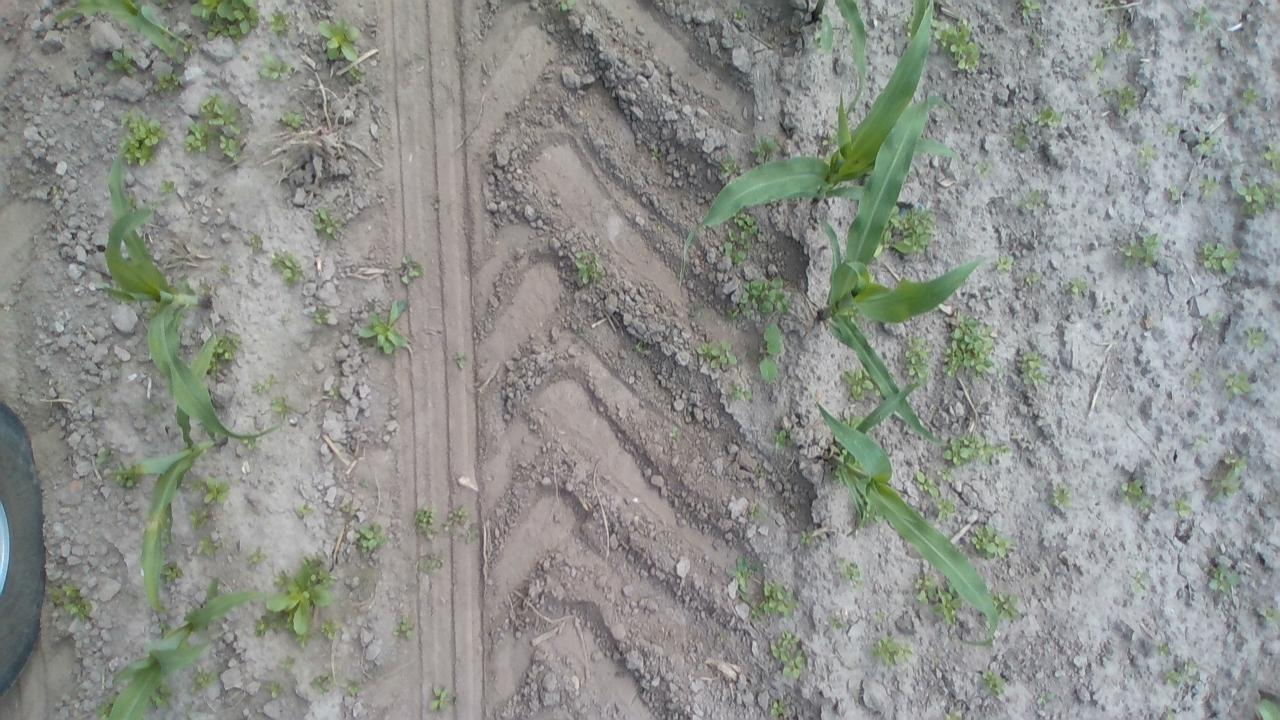Maize: (680, 1, 966, 286), (817, 91, 989, 448), (97, 137, 280, 439), (814, 382, 998, 646), (112, 331, 231, 610), (108, 578, 270, 720), (53, 1, 192, 66), (811, 0, 868, 113)
Weeds: (268, 556, 334, 649), (940, 314, 1006, 382), (184, 90, 244, 160), (356, 296, 410, 354), (189, 0, 263, 42), (121, 105, 168, 168), (932, 14, 982, 70), (1196, 447, 1246, 501), (1106, 228, 1164, 270), (889, 203, 933, 258), (1229, 169, 1280, 215), (748, 577, 800, 622), (942, 436, 1013, 468), (316, 16, 362, 63), (769, 626, 806, 680), (740, 274, 788, 315), (726, 554, 762, 606), (1192, 240, 1241, 276), (50, 582, 92, 622), (725, 212, 757, 264), (971, 520, 1012, 560), (1099, 84, 1140, 120), (904, 332, 935, 379), (1220, 366, 1258, 402), (270, 248, 304, 288), (871, 634, 913, 666), (696, 340, 739, 371), (1014, 346, 1048, 384), (1116, 478, 1151, 514), (1160, 655, 1198, 687), (760, 322, 780, 382), (258, 50, 296, 81), (832, 554, 864, 590), (1206, 561, 1240, 594), (312, 206, 343, 241), (935, 587, 963, 625), (575, 246, 603, 283), (841, 370, 873, 402), (913, 568, 942, 602), (105, 48, 138, 76), (356, 523, 386, 553), (913, 469, 941, 501), (202, 474, 230, 505), (412, 505, 440, 536), (443, 504, 470, 536), (215, 332, 243, 362), (1030, 102, 1066, 125), (749, 132, 778, 160), (712, 151, 741, 179), (1184, 6, 1214, 33), (192, 666, 220, 694), (993, 592, 1021, 620), (1109, 26, 1136, 54), (1242, 324, 1271, 350), (1014, 188, 1044, 213), (267, 4, 292, 34), (393, 614, 417, 645), (981, 666, 1004, 698), (150, 70, 182, 93), (1194, 172, 1223, 197), (1136, 138, 1160, 168), (400, 251, 422, 282), (1196, 130, 1222, 156), (428, 684, 450, 714), (1048, 482, 1072, 509), (1252, 697, 1280, 720), (1262, 138, 1280, 172), (1254, 600, 1280, 623), (250, 373, 276, 396), (1168, 496, 1195, 518), (115, 465, 140, 488), (1130, 568, 1152, 594), (279, 110, 305, 132), (307, 673, 334, 694), (321, 614, 341, 642), (189, 507, 212, 531), (153, 683, 175, 708), (270, 396, 292, 421), (1010, 122, 1031, 148), (197, 534, 219, 558), (252, 615, 274, 638), (996, 254, 1020, 275), (936, 495, 956, 520), (248, 544, 268, 569), (729, 380, 752, 401), (1239, 87, 1262, 108), (970, 160, 994, 179), (1088, 49, 1106, 74), (770, 429, 791, 450), (1186, 366, 1206, 388), (770, 696, 790, 717), (1066, 277, 1087, 297), (95, 694, 112, 718), (1022, 272, 1046, 289), (422, 552, 442, 572), (342, 678, 362, 696), (1204, 309, 1224, 326), (165, 562, 182, 582), (264, 682, 282, 700), (937, 464, 955, 482), (1184, 72, 1202, 90), (314, 308, 332, 326), (149, 396, 167, 414), (828, 611, 845, 630), (1021, 0, 1040, 17), (208, 356, 222, 379), (1156, 639, 1173, 657), (1162, 118, 1182, 133), (452, 351, 467, 371), (798, 530, 814, 548), (633, 340, 649, 358), (94, 446, 110, 464), (944, 706, 964, 720), (185, 478, 205, 492), (747, 504, 764, 520), (248, 234, 266, 249), (1030, 30, 1044, 49), (1162, 704, 1178, 720), (822, 132, 838, 148), (650, 146, 666, 162), (182, 40, 198, 56), (159, 179, 176, 194), (842, 416, 863, 428), (197, 278, 212, 294), (463, 528, 478, 544), (1194, 435, 1208, 452), (1036, 693, 1054, 706), (1167, 185, 1182, 200), (845, 306, 859, 322), (127, 190, 139, 208), (363, 664, 378, 678), (340, 498, 354, 513), (812, 36, 825, 52), (280, 656, 294, 670), (1205, 545, 1219, 559), (349, 66, 363, 80), (560, 0, 576, 12), (242, 439, 258, 451), (754, 461, 766, 476), (358, 478, 373, 490), (725, 308, 742, 318), (669, 426, 679, 443), (159, 621, 172, 634), (1199, 57, 1214, 68), (328, 384, 339, 399), (730, 10, 745, 20), (146, 301, 156, 316), (1100, 306, 1112, 318), (874, 608, 884, 622), (1100, 0, 1114, 10), (159, 0, 170, 10), (219, 264, 228, 276), (281, 317, 292, 326), (149, 200, 159, 209), (298, 505, 310, 512), (52, 185, 58, 196), (716, 634, 724, 642), (1118, 0, 1124, 6)
